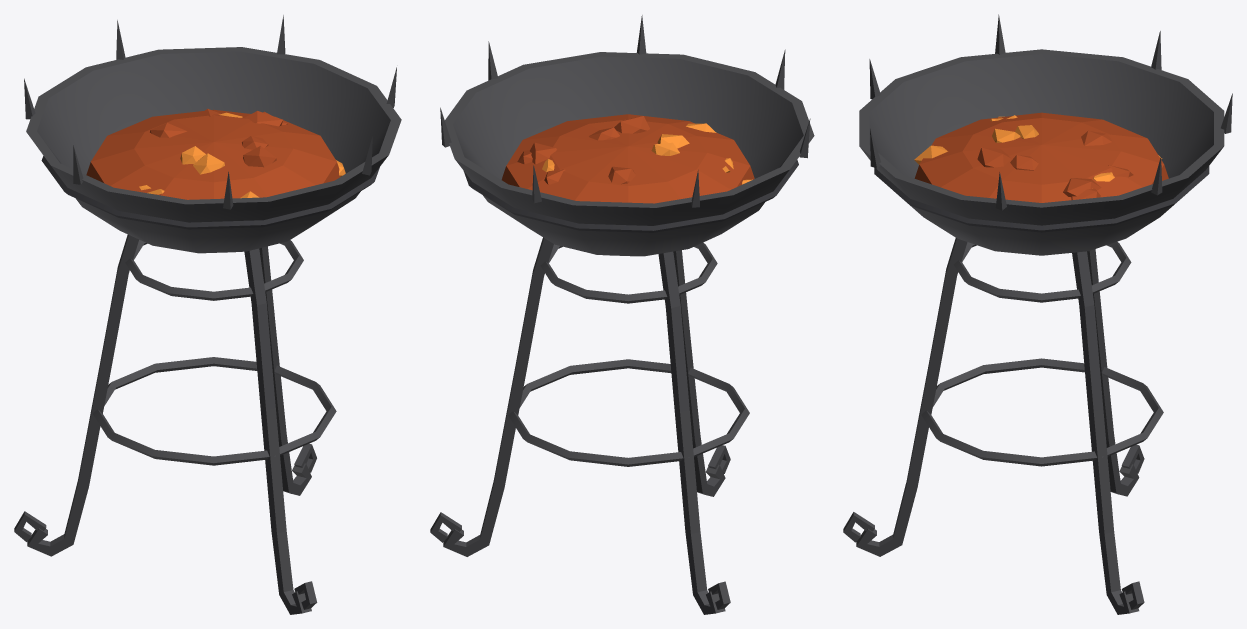
The model's file is brazier.glb.
3 views of the same model, side by side, from view 1: azimuth 30°, elevation 25°; view 2: azimuth 150°, elevation 25°; view 3: azimuth 270°, elevation 25° (orthographic).
Visible parts, largest first — view 1: brazier; view 2: brazier; view 3: brazier.
Part boxes in pixels (x1,y1,x2,y2): brazier: (14, 15, 401, 614); brazier: (430, 15, 814, 614); brazier: (843, 14, 1232, 614).
Bounding box in the file's own units: 1.04 × 1.42 × 1.08.
